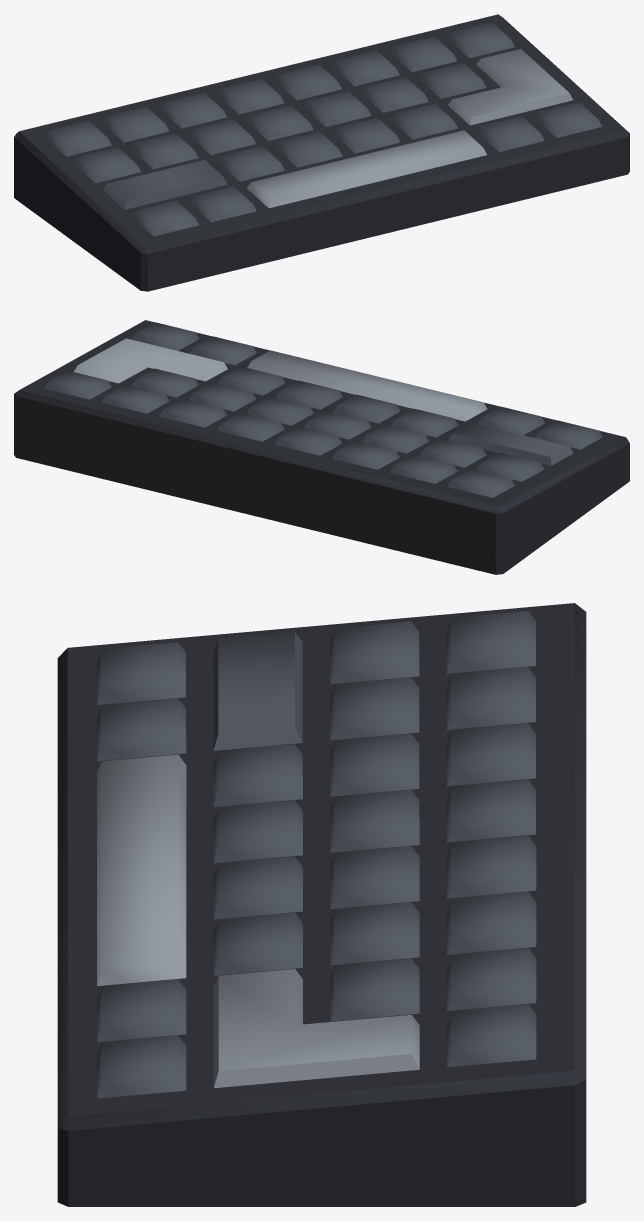
The model's file is teclado_cassino_pacote.glb.
3 views of the same model, one above another, from view 1: azimuth 30°, elevation 25°; view 2: azimuth 150°, elevation 25°; view 3: azimuth 270°, elevation 25° (orthographic). The views are drawn at different scales.
Visible parts, largest first — view 1: teclado_cassino_pacote; view 2: teclado_cassino_pacote; view 3: teclado_cassino_pacote.
Boxes of the visible parts, <box> form: teclado_cassino_pacote: <box>14,14,629,291</box>; teclado_cassino_pacote: <box>14,320,629,574</box>; teclado_cassino_pacote: <box>57,603,586,1206</box>.
Size of the model in its own units: 0.4451 by 0.0613 by 0.2082.
Materials: 1 (1 with a texture image).
